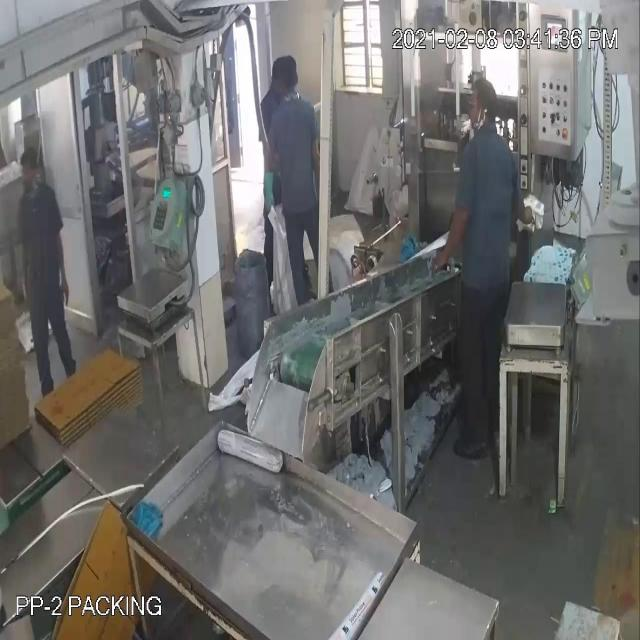No_Gloves: (20, 90, 446, 260)
